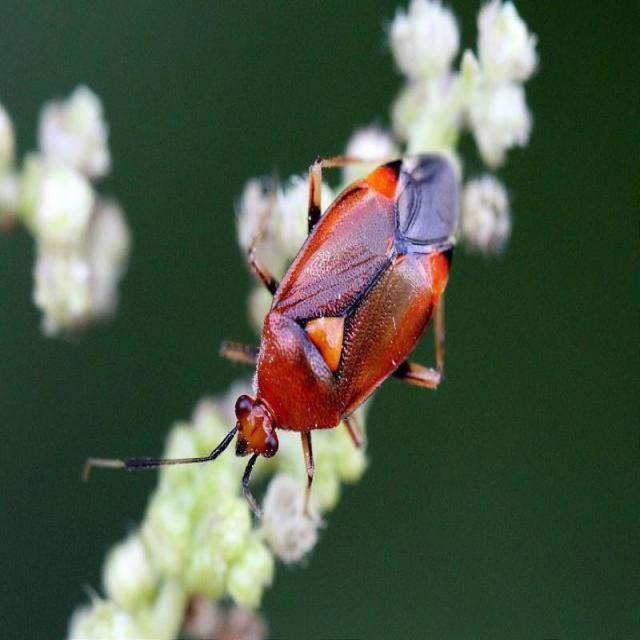Miridae-Adult-: (104, 139, 476, 546)
